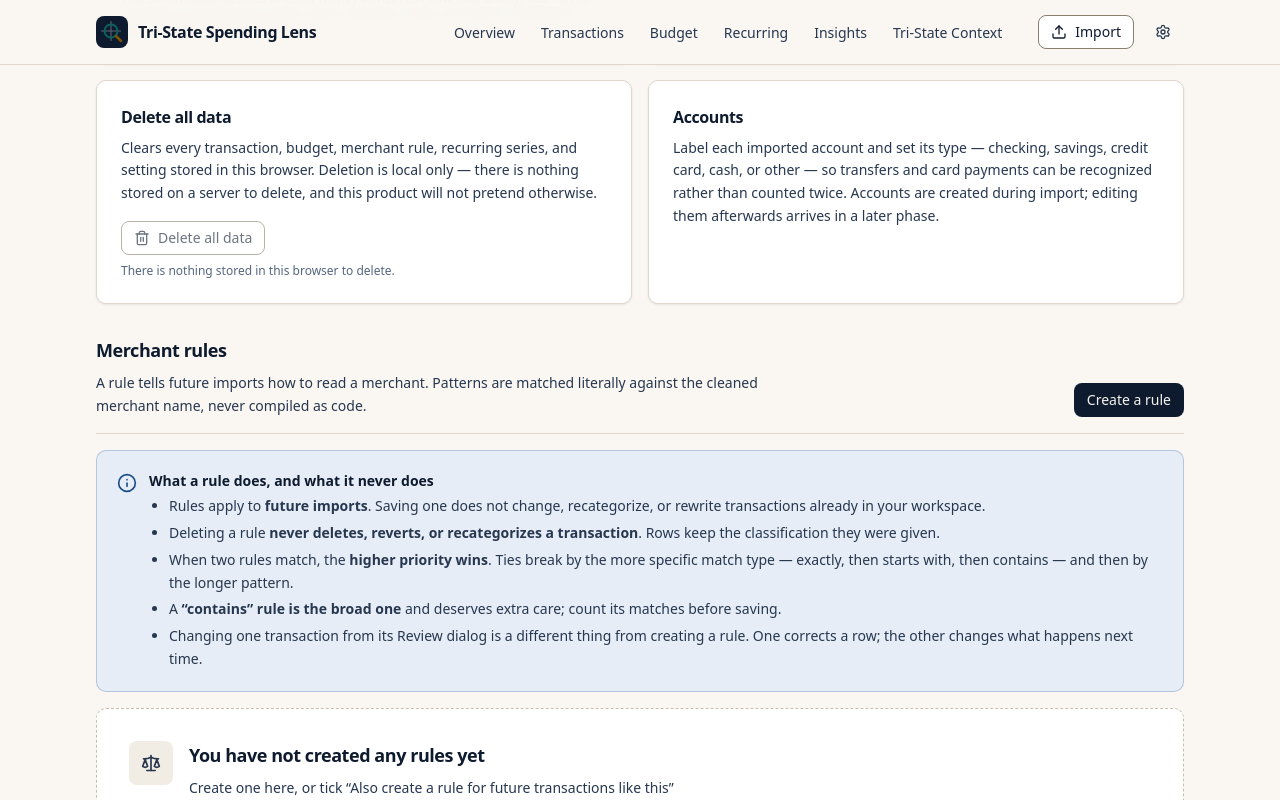
creating a rule › announces the outcome through the page live region
The width and height of the screenshot is (1280, 800).
(page scrolled)
Expected: the heading "Merchant rules" is shown, [96,338,226,362]
Click the button "Create a rule" at (1129, 400), box [1074,383,1184,417]
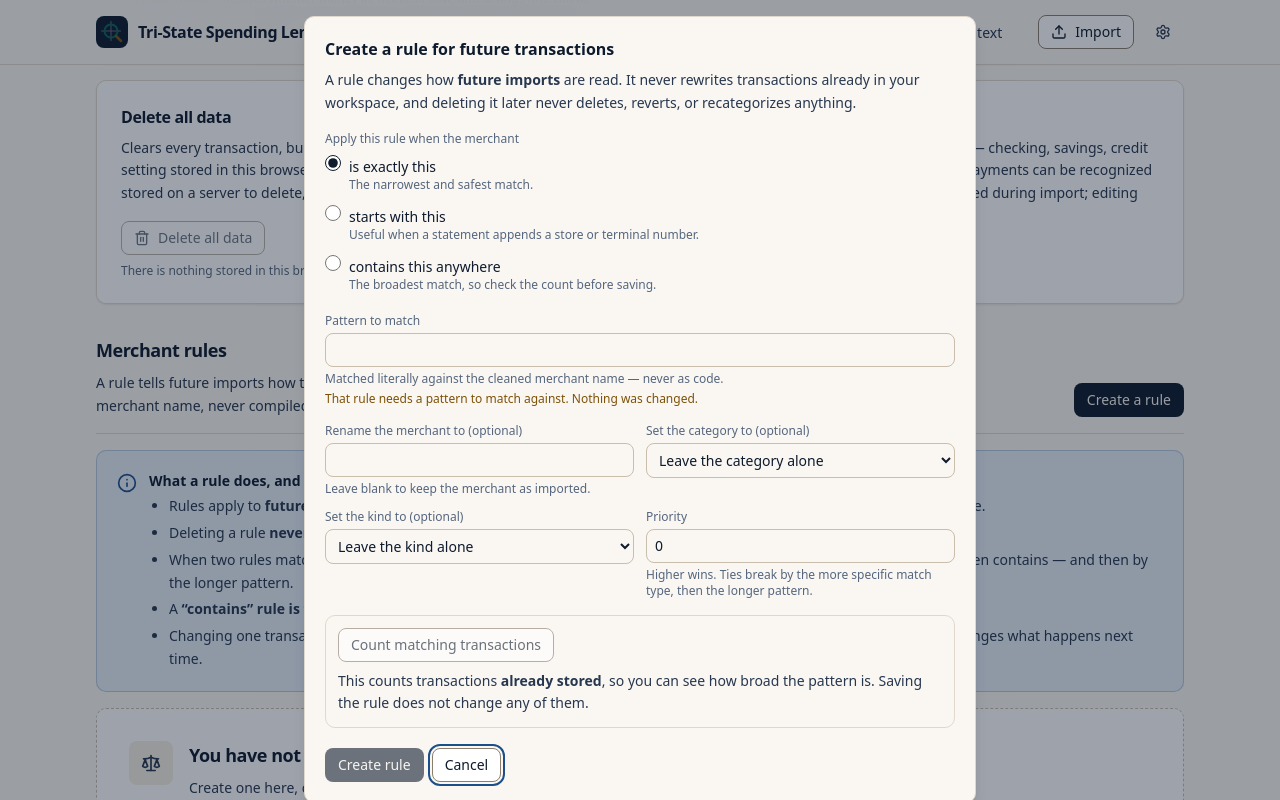
Type "PINEBROOK MARKET" into the field labelled "Pattern to match" at (640, 350), box [325,332,955,366]
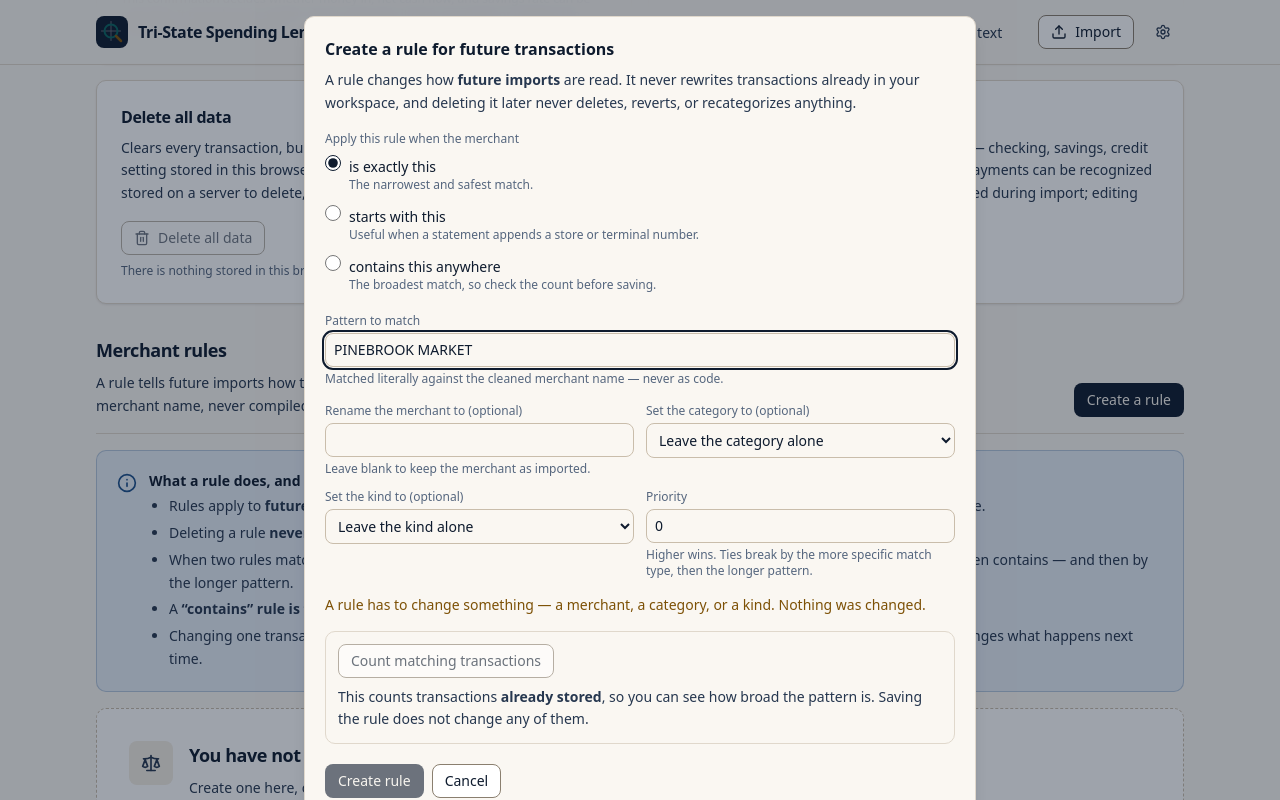
Select "Groceries" in the dropdown labelled "Set the category to (optional)" at (800, 440), box [646,422,955,458]
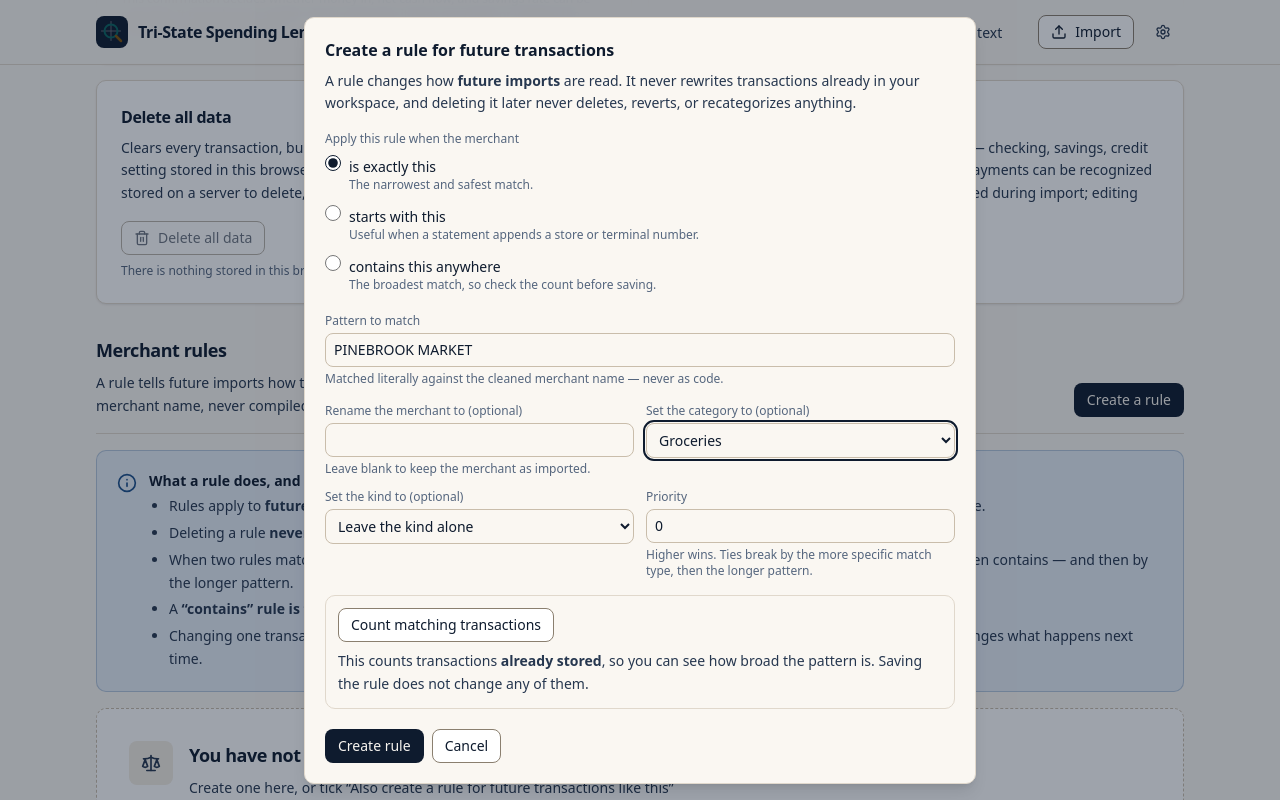
Click the button "Create rule" at (374, 746), box [325,728,424,762]
(page scrolled)
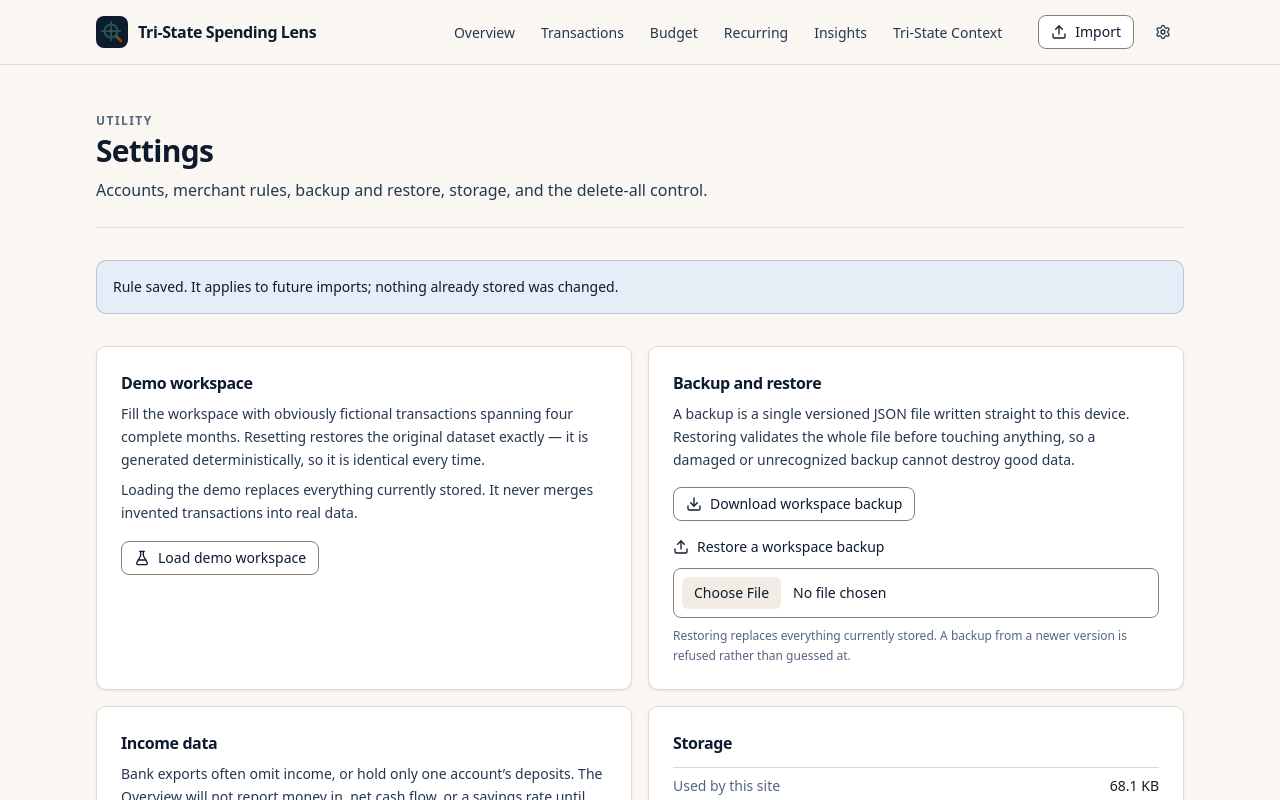
Expected: the message reads "Rule saved. It applies to future imports; nothing already stored was changed.", [113,277,618,296]
